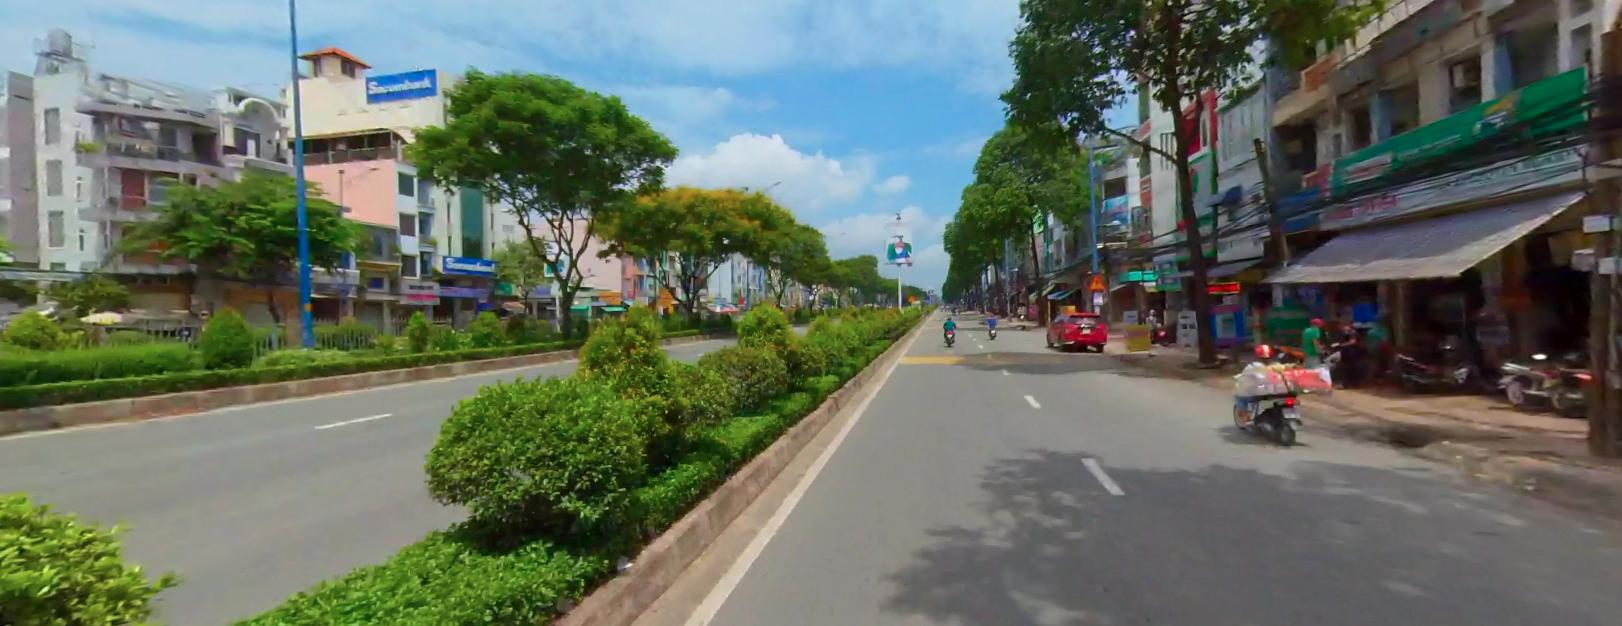Nguy hiem: (1087, 272, 1105, 289)
